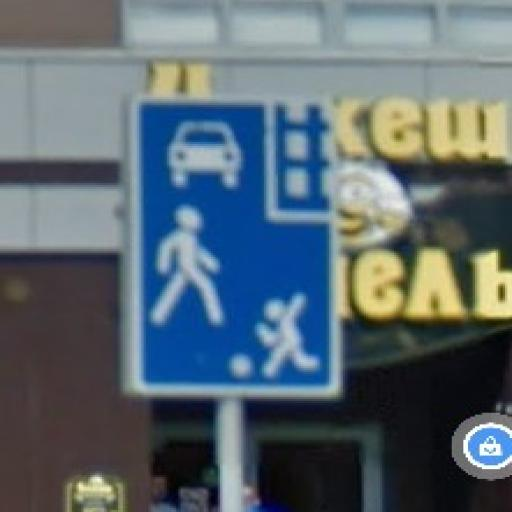traffic_sign: (128, 94, 344, 402)
